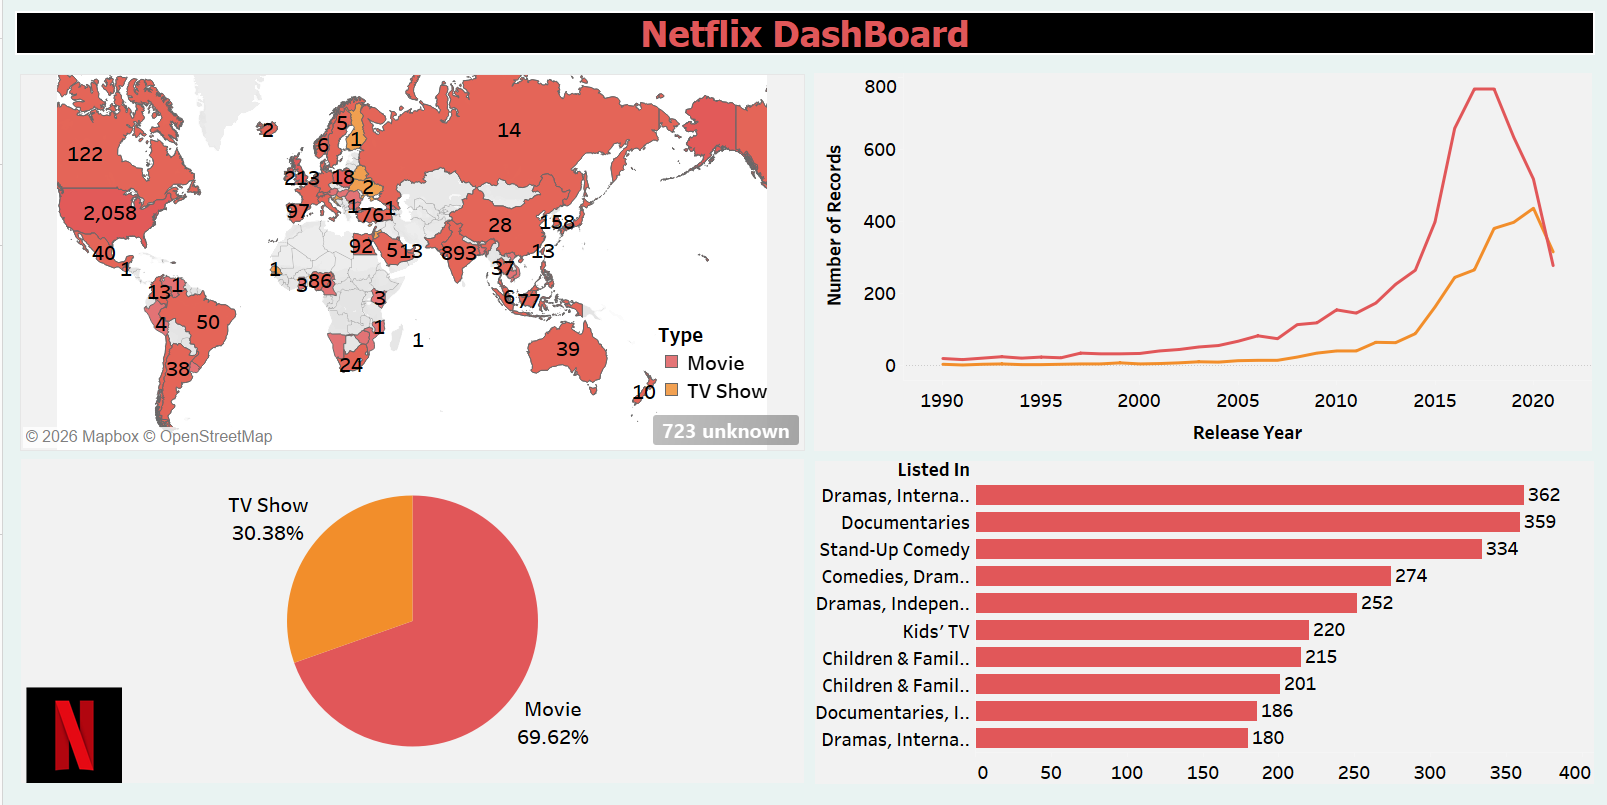

Layout of this report page (visuals, bound fields, positions):
{"tool":"tableau","page":{"name":"Dashboard 1","canvas":[1000,1000],"units":"permille","ordinal":0},"visuals":[{"type":"title","box":[5,9.9,990,64.5]},{"type":"worksheet","title":"Movies & TV Shows","mark":"Automatic","rows":["Number of Records"],"cols":["release_year"],"box":[505.6,91.8,485,469]},{"type":"worksheet","title":"Movies & Shows in different countries","mark":"Multipolygon","box":[10.6,93,489.4,467.7]},{"type":"legend","title":"Movies & Shows in different countries","param":"[federated.1hs0snd006g6tw0zwdwwd0rx5uc5].[none:type:nk]","box":[408.4,398.3,87.3,104.2]},{"type":"worksheet","title":"% of Movies and TV Shows","mark":"Pie","box":[11.2,570.7,488.2,402]},{"type":"worksheet","title":"Top Genres","mark":"Automatic","rows":["listed_in"],"cols":["show_id"],"box":[506.2,573.2,485.7,400.7]},{"type":"image","param":"Image/channels4_profile.jpg","box":[14.3,853.6,77.3,119.1]}]}

Visuals, with their boxes on the dashboard's canvas, which has no fixed pixel size, in thousandths of its width and height (x1, y1, x2, y2). These are canvas units, not pixel positions in the 1607x805 screenshot, which may show the page scaled, cropped or inside an application window:
title: BBox(5, 10, 995, 74)
"Movies & TV Shows" worksheet: BBox(506, 92, 991, 561)
"Movies & Shows in different countries" worksheet (Multipolygon marks): BBox(11, 93, 500, 561)
"Movies & Shows in different countries" legend: BBox(408, 398, 496, 502)
"% of Movies and TV Shows" worksheet (Pie marks): BBox(11, 571, 499, 973)
"Top Genres" worksheet: BBox(506, 573, 992, 974)
image: BBox(14, 854, 92, 973)
